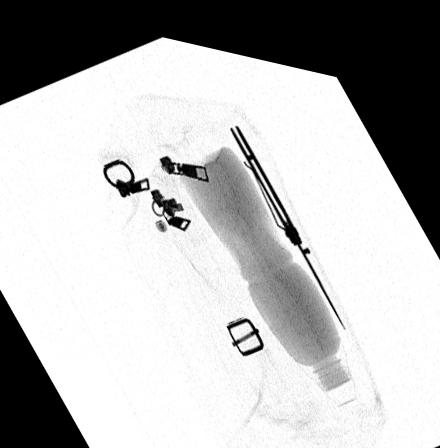Knife: (229, 113, 345, 314)
